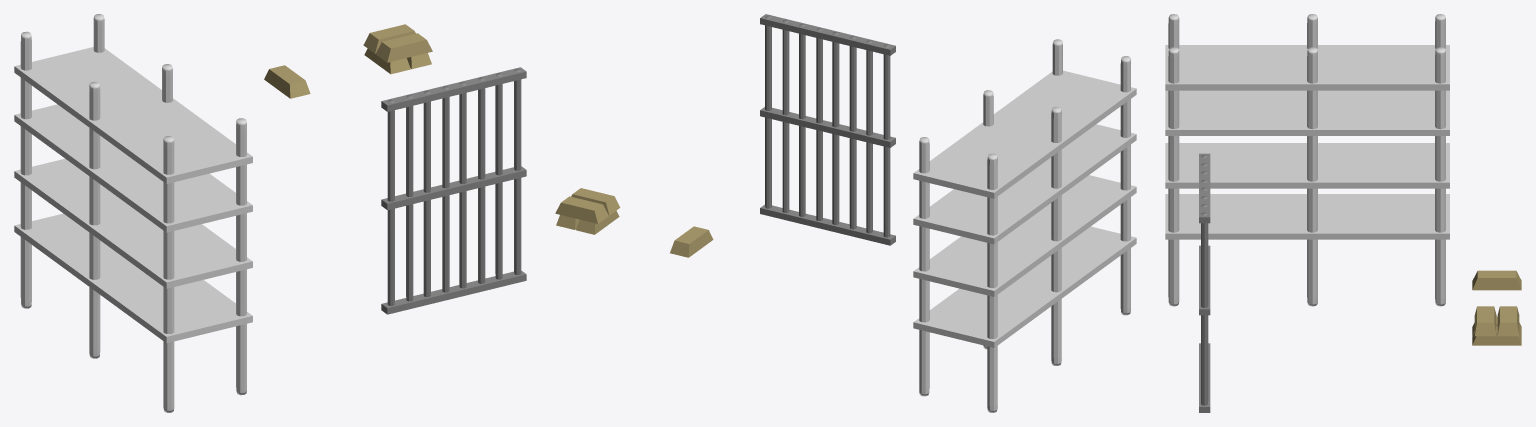
Rendered from VaultStuff.fbx.
The picture shows the model from 3 angles, left to right: view 1: azimuth 30°, elevation 25°; view 2: azimuth 150°, elevation 25°; view 3: azimuth 270°, elevation 25°; orthographic projection. The views are drawn at different scales.
Parts seen in each view (by area): view 1: Shelf, Bars, GoldBlock, GoldBar; view 2: Shelf, Bars, GoldBlock, GoldBar; view 3: Shelf, Bars, GoldBlock, GoldBar.
Boxes of the visible parts, box(x1,y1,x2,y2) form: Shelf: box(14, 14, 252, 412); Bars: box(381, 67, 526, 314); GoldBlock: box(363, 24, 432, 74); GoldBar: box(264, 65, 310, 98); Shelf: box(913, 39, 1136, 412); Bars: box(760, 14, 895, 245); GoldBlock: box(555, 188, 620, 234); GoldBar: box(670, 226, 713, 257); Shelf: box(1165, 14, 1449, 306); Bars: box(1199, 153, 1210, 412); GoldBlock: box(1472, 306, 1521, 345); GoldBar: box(1472, 270, 1521, 290).
Size of the model in its own units: 5.3 by 3.2 by 4.05.
